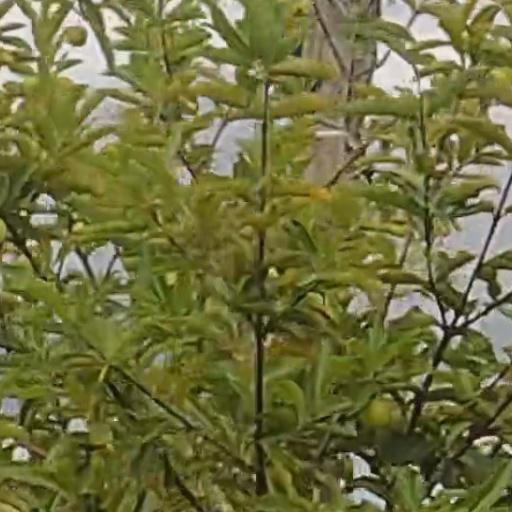acerola: (363, 399, 402, 427), (484, 65, 512, 100)
